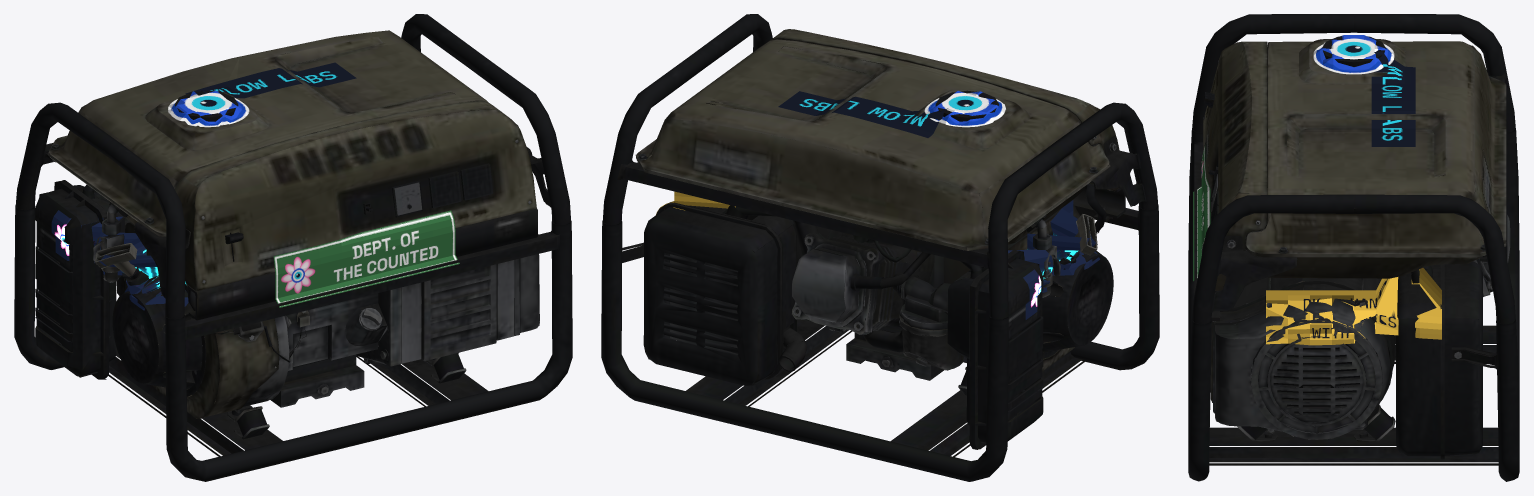
The model's file is nyb_ghost_pack.glb.
The picture shows the model from 3 angles, left to right: view 1: azimuth 30°, elevation 25°; view 2: azimuth 150°, elevation 25°; view 3: azimuth 270°, elevation 25°; orthographic projection.
Visible parts, largest first — view 1: portable_generator, stk_label_counted_dept.png, stk_lbl_68b8166547.png, stk_lbl_72fd16c97c.png, stk_nazar_die.png; view 2: portable_generator, stk_lbl_68b8166547.png, stk_lbl_72fd16c97c.png, stk_nazar_die.png; view 3: portable_generator, stk_lbl_d760f2298a.png, stk_lbl_68b8166547.png, stk_nazar_die.png, stk_label_counted_dept.png.
Boxes of the visible parts, x1,y1,x2,y2 form: portable_generator: [14, 14, 572, 481]; stk_label_counted_dept.png: [273, 210, 459, 307]; stk_lbl_68b8166547.png: [185, 62, 356, 98]; stk_lbl_72fd16c97c.png: [51, 210, 188, 310]; stk_nazar_die.png: [168, 91, 249, 127]; portable_generator: [601, 14, 1159, 481]; stk_lbl_68b8166547.png: [778, 91, 947, 137]; stk_lbl_72fd16c97c.png: [1008, 200, 1099, 319]; stk_nazar_die.png: [924, 91, 1005, 127]; portable_generator: [1188, 14, 1519, 481]; stk_lbl_d760f2298a.png: [1266, 268, 1441, 345]; stk_lbl_68b8166547.png: [1371, 51, 1415, 146]; stk_nazar_die.png: [1313, 35, 1394, 74]; stk_label_counted_dept.png: [1193, 145, 1210, 281].
Size of the model in its own units: 0.8182 by 0.5785 by 0.5642.
7 materials, 7 textured.
